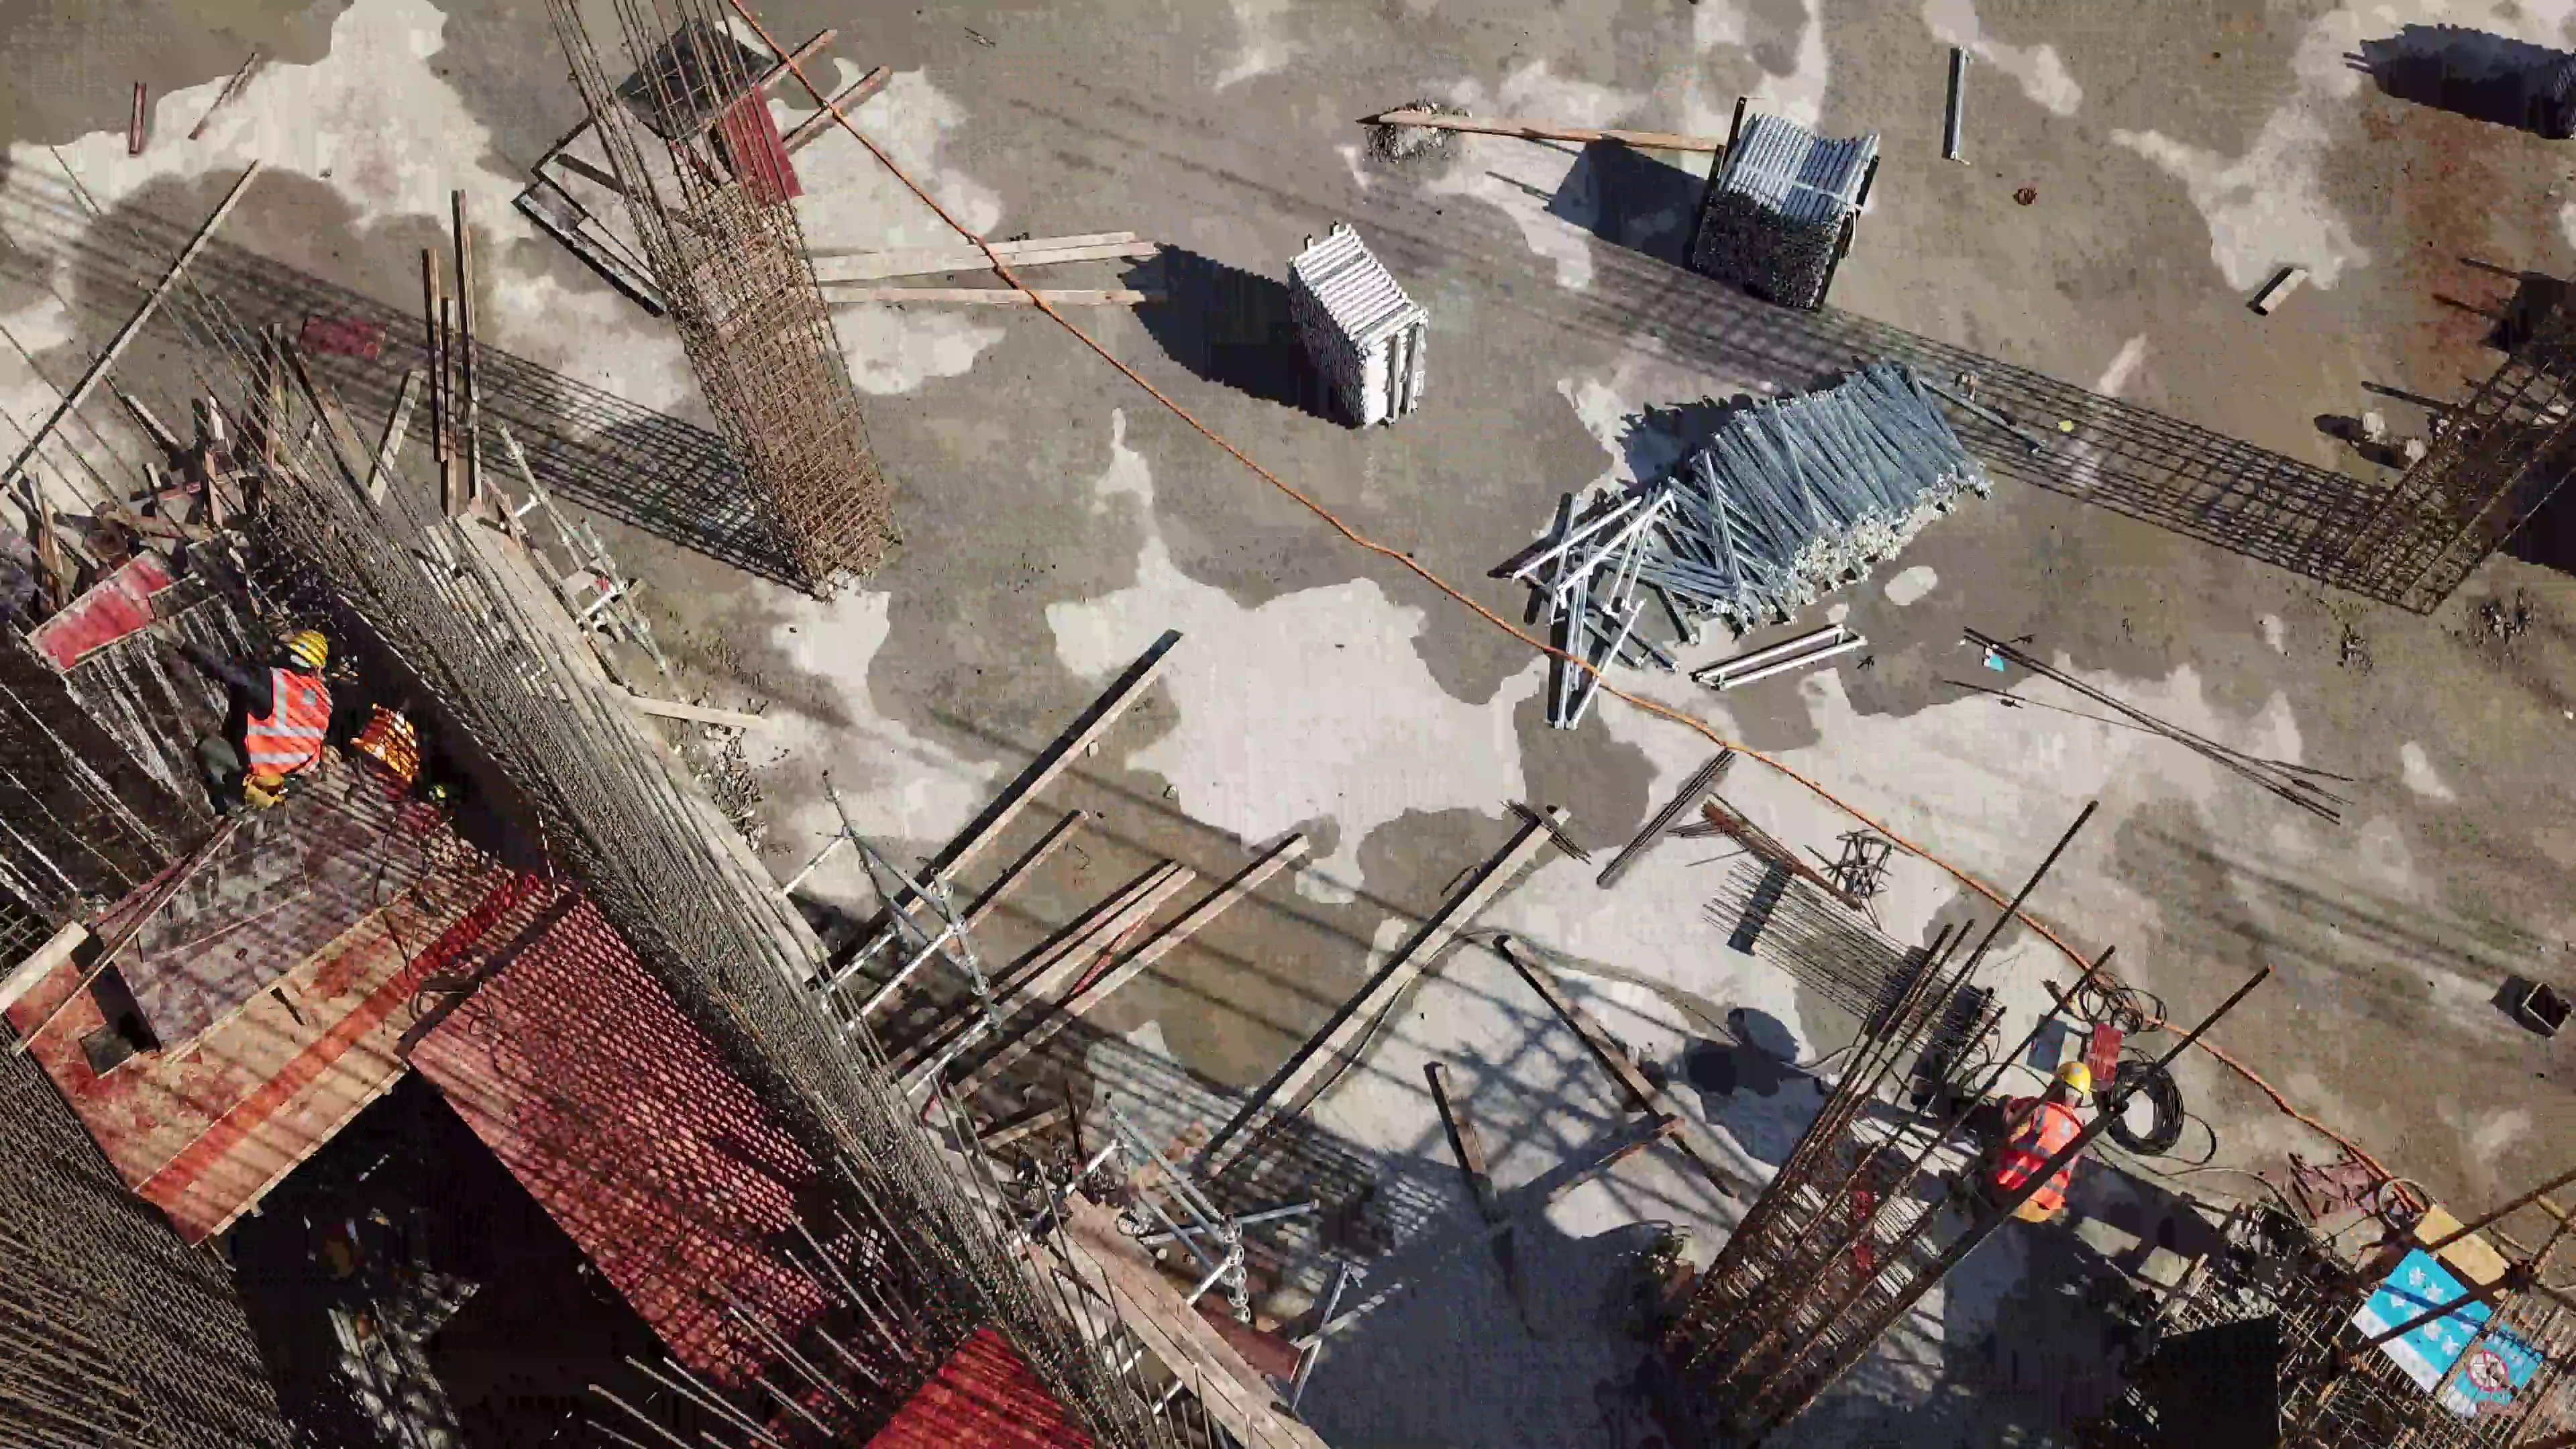helmet: (278, 618, 345, 670), (2049, 1046, 2097, 1099)
person: (199, 608, 350, 814), (1987, 1041, 2099, 1240)
scaffold: (1713, 346, 1986, 594), (1680, 109, 1876, 309), (1281, 234, 1440, 423)
vest: (1988, 1096, 2086, 1218), (241, 663, 336, 788)
